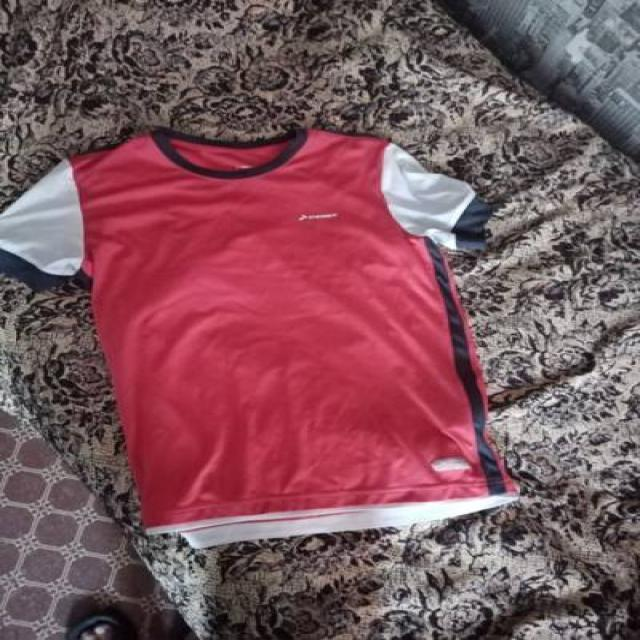Clothes -Biodegradable-: (0, 129, 514, 548)
